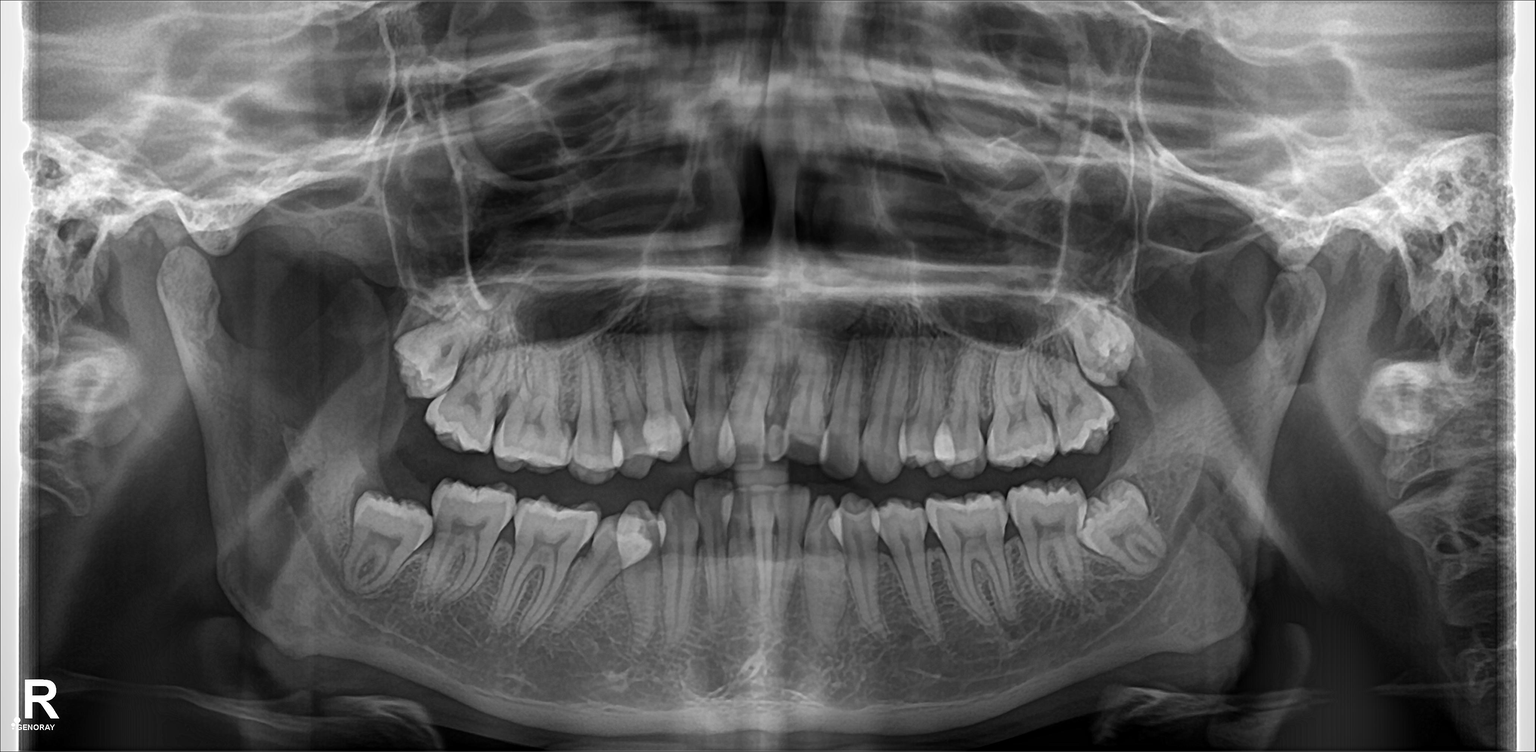Impacted Third Molar: (337, 486, 429, 590), (395, 320, 465, 399), (1086, 493, 1162, 560), (1073, 303, 1138, 371)
